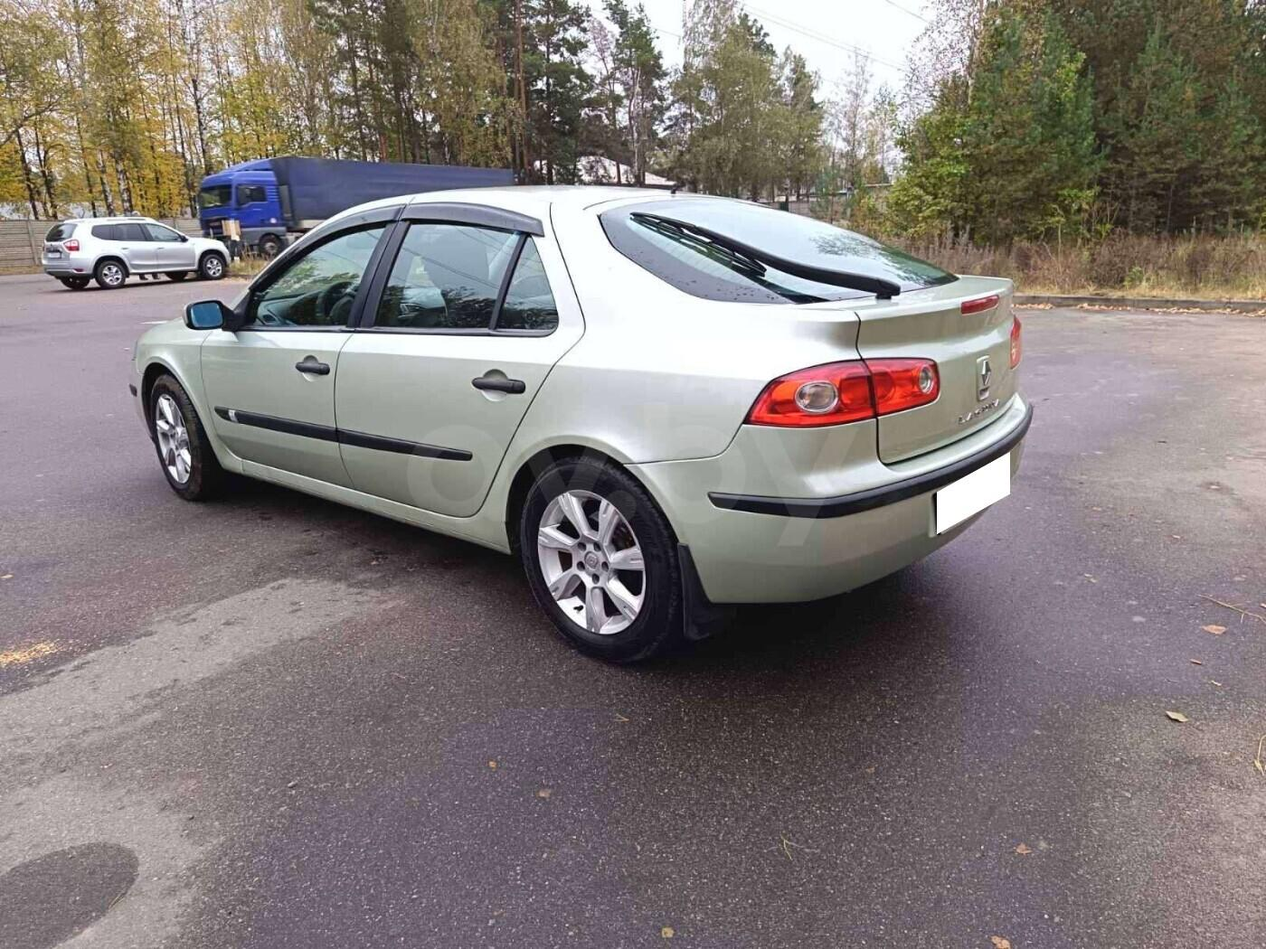Laguna_2005-2007: (121, 178, 1037, 662)
